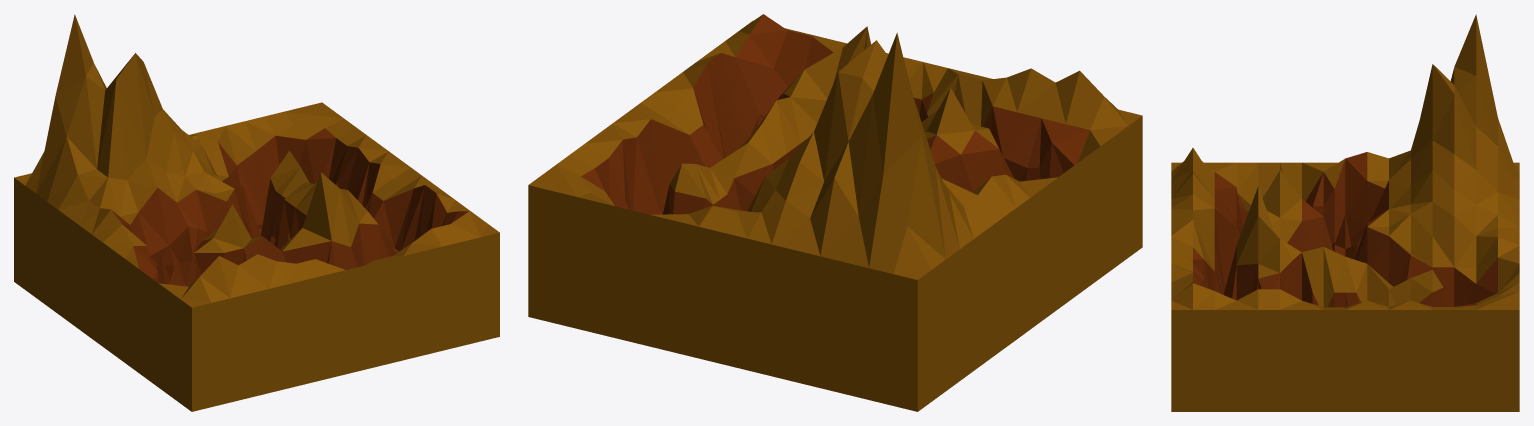
The model's file is Canyon.dae.
3 renders of one model, left to right at view 1: azimuth 30°, elevation 25°; view 2: azimuth 150°, elevation 25°; view 3: azimuth 270°, elevation 25°, orthographic. The views are drawn at different scales.
Parts seen in each view (by area): view 1: Cube; view 2: Cube; view 3: Cube.
Part boxes in pixels (x1=…): Cube: x1=14, y1=14, x2=499, y2=411; Cube: x1=528, y1=14, x2=1142, y2=411; Cube: x1=1171, y1=14, x2=1519, y2=411.
Size of the model in its own units: 79.76 by 79.76 by 67.97.
